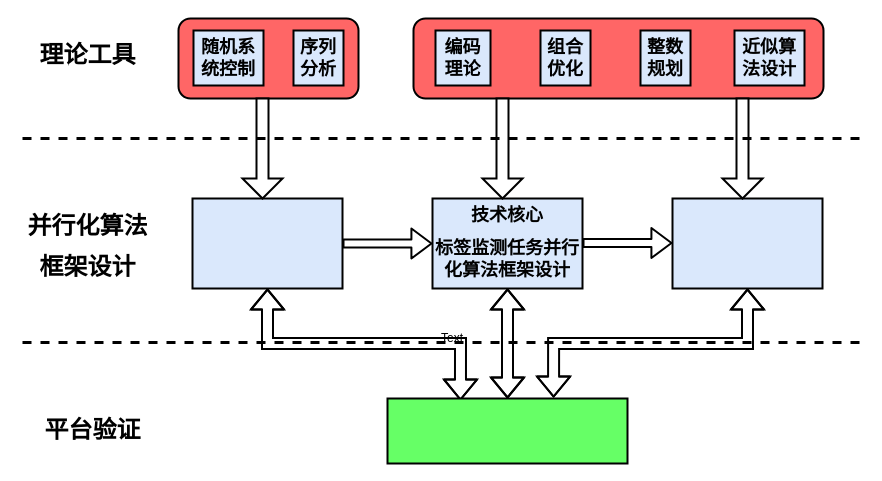
Image size: 882x481. Some labels were removed from this diagram. Each missing label, with the centre of its shape:
实验平台搭建与性能测试: point (507, 430)
应用扩展 任务并行化方法框架扩展: point (747, 243)
理论基石 并发帧分Aloha协议理论体系构建: point (267, 243)
